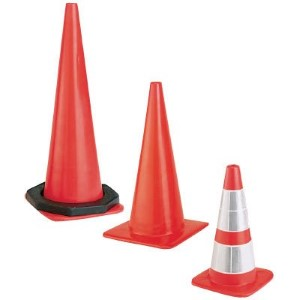traffic cone: (24, 4, 119, 217), (102, 82, 209, 250), (191, 164, 274, 298)
